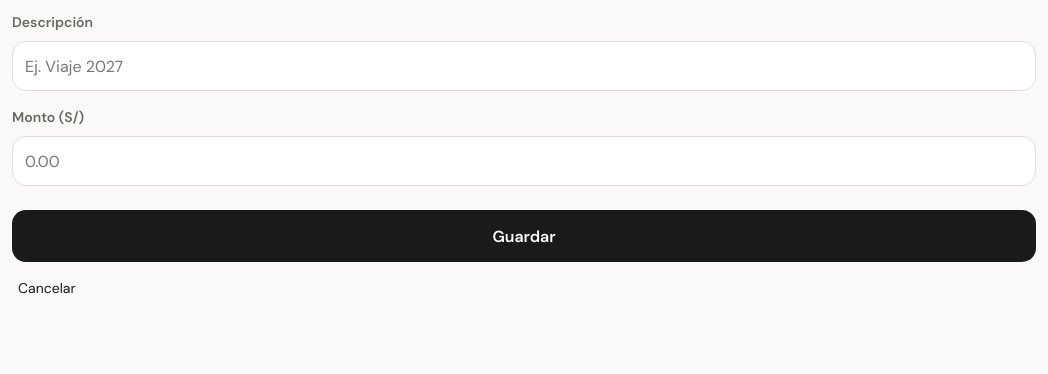
FormularioMetaAhorro › borde: monto no numérico bloquea el envío EN EL FORMULARIO
The image size is (1048, 374).
Type "Viaje 2027" into the field with id "descripcion-meta" at (524, 66), box [12,41,1036,91]
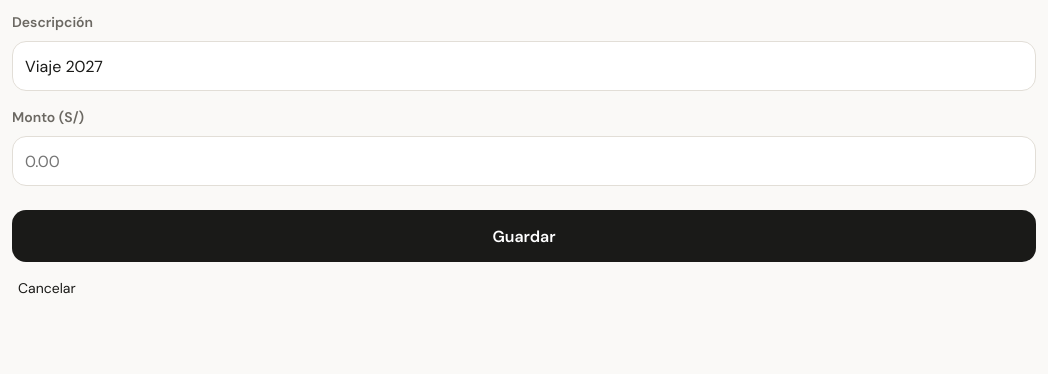
Type "abc" into the field with id "monto-meta" at (524, 161), box [12,136,1036,186]
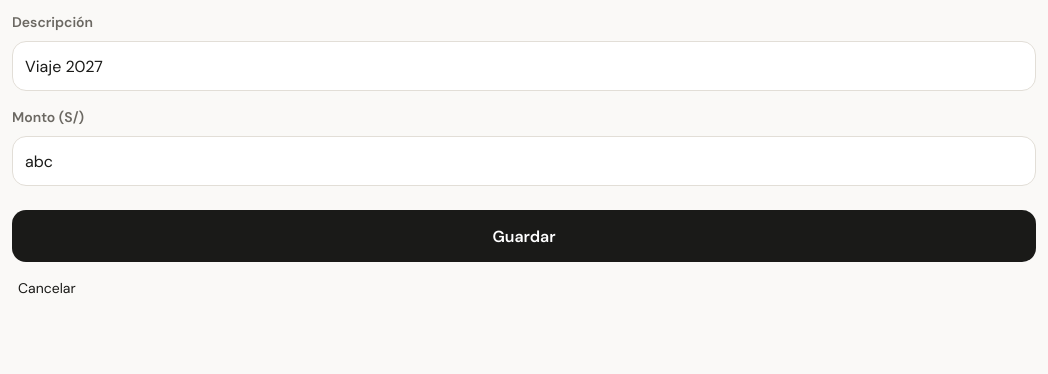
Submit the form
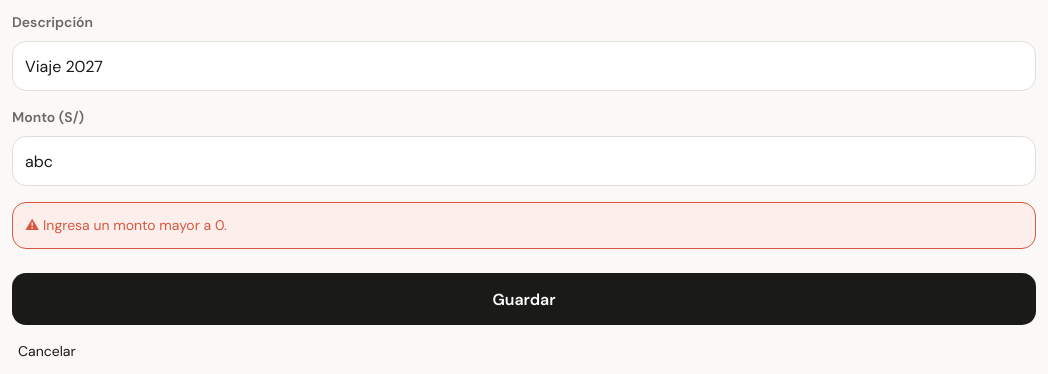
Result: the message "Ingresa un monto mayor a 0." is shown at [12,202,1036,249]
